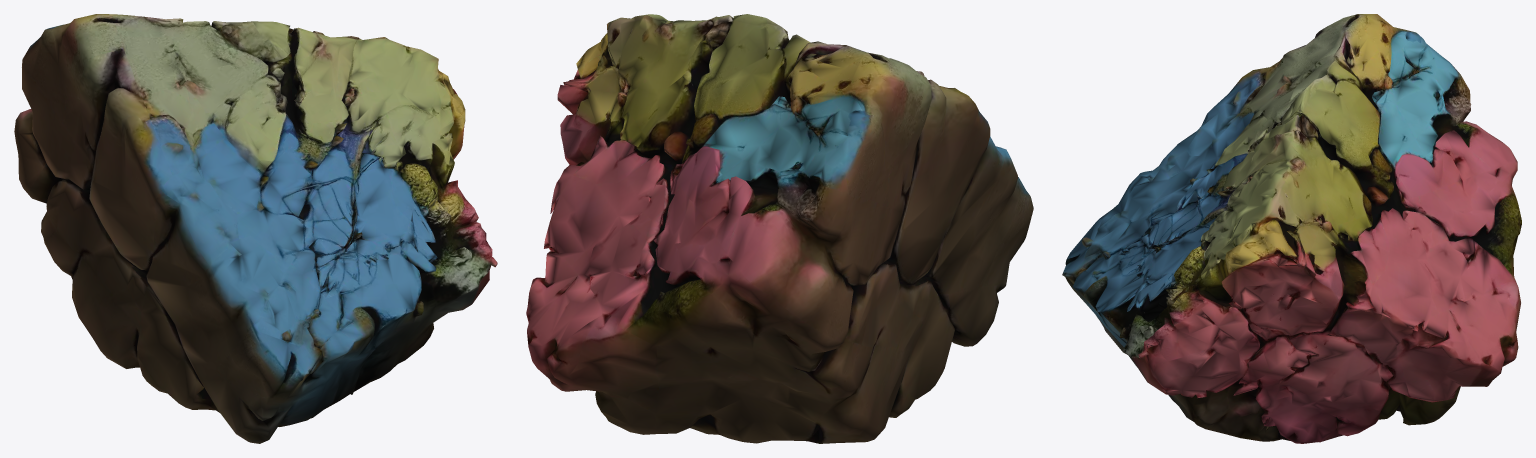
File: rock_a.glb
3 renders of one model, left to right at view 1: azimuth 30°, elevation 25°; view 2: azimuth 150°, elevation 25°; view 3: azimuth 270°, elevation 25°, orthographic. The views are drawn at different scales.
Parts seen in each view (by area): view 1: tripo_node_265e7e49; view 2: tripo_node_265e7e49; view 3: tripo_node_265e7e49.
Boxes of the visible parts, x1,y1,x2,y2 form: tripo_node_265e7e49: (14,14,497,443); tripo_node_265e7e49: (526,14,1033,443); tripo_node_265e7e49: (1062,14,1521,443).
Size of the model in its own units: 0.775 by 0.7772 by 0.9806.
1 material, 1 textured.
